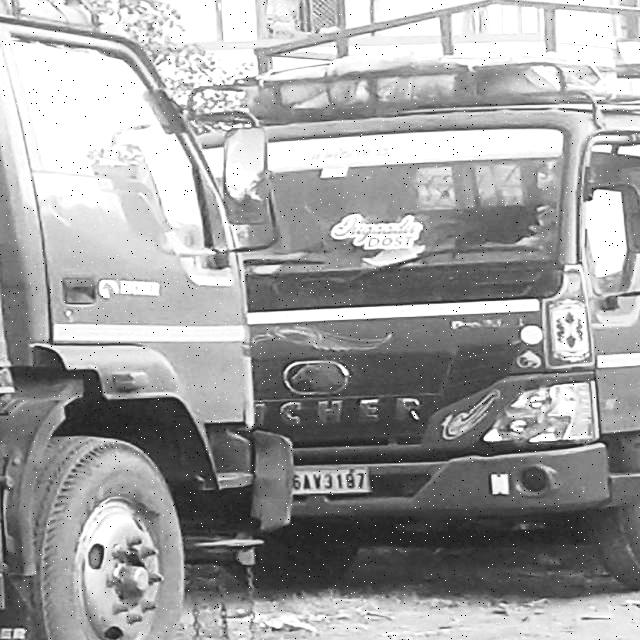HCV: (213, 92, 640, 570)
